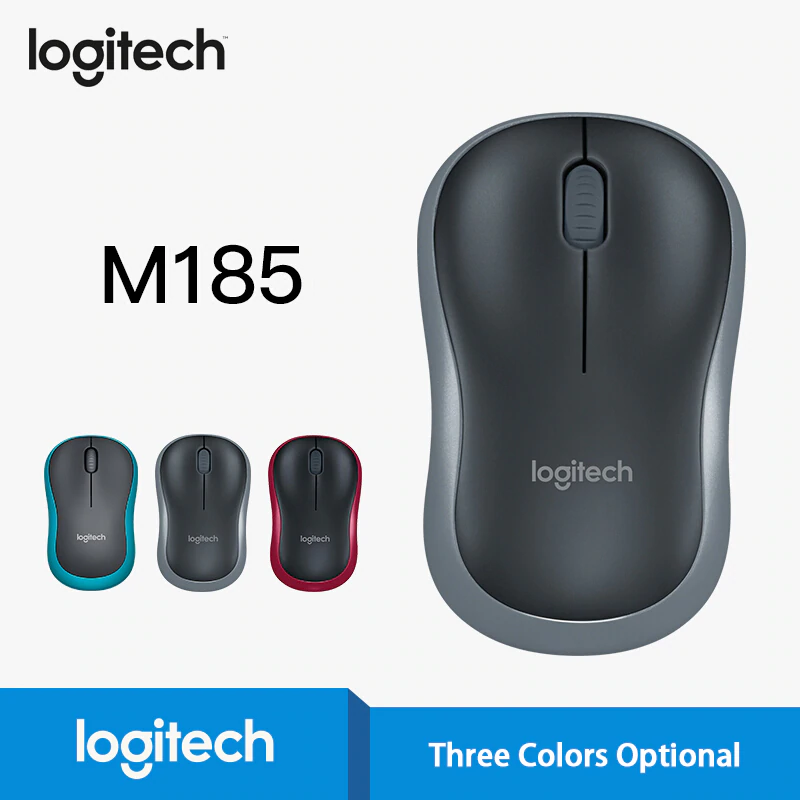logitech-mouse-m185: (403, 112, 755, 655), (265, 431, 374, 594), (46, 431, 138, 592), (157, 434, 249, 591)
